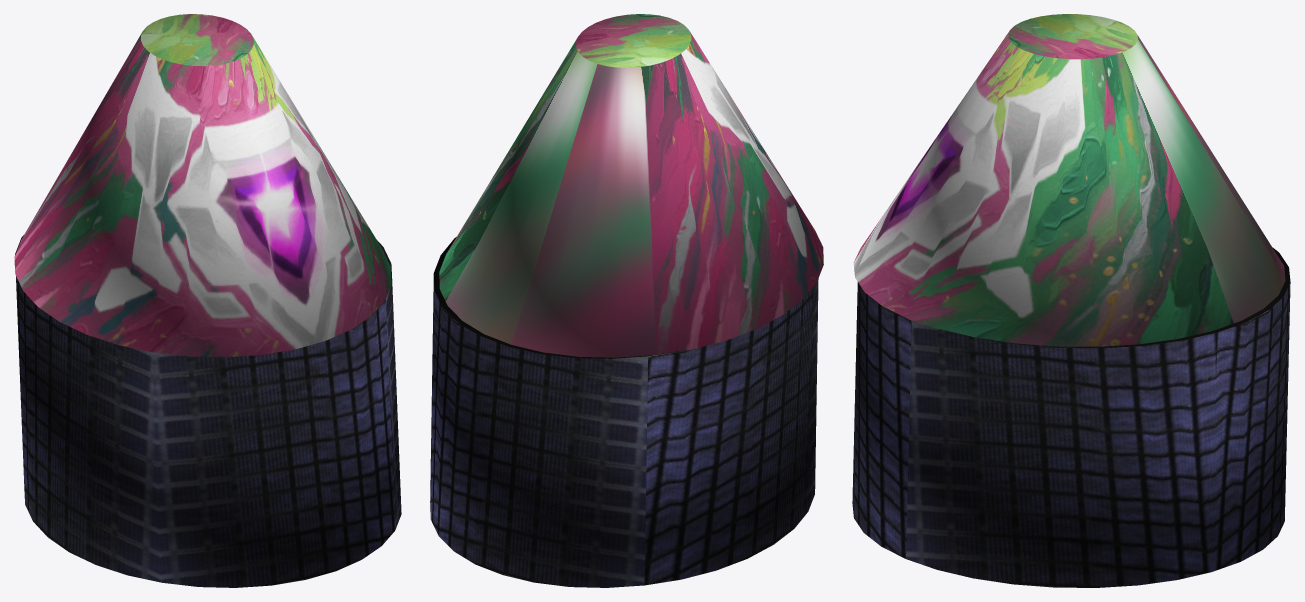
File: NaveEspecial.obj
3 views of the same model, side by side, from view 1: azimuth 30°, elevation 25°; view 2: azimuth 150°, elevation 25°; view 3: azimuth 270°, elevation 25° (orthographic).
Parts seen in each view (by area): view 1: Cylinder, Cylinder.001; view 2: Cylinder, Cylinder.001; view 3: Cylinder, Cylinder.001.
Part boxes in pixels (<box>): Cylinder: <box>15,235,401,587</box>; Cylinder.001: <box>14,14,391,357</box>; Cylinder: <box>430,237,818,587</box>; Cylinder.001: <box>439,14,823,357</box>; Cylinder: <box>852,247,1290,587</box>; Cylinder.001: <box>853,14,1285,346</box>.
Bounding box in the file's own units: 2.05 × 2.82 × 2.36.
Materials: 2 (2 with a texture image).
